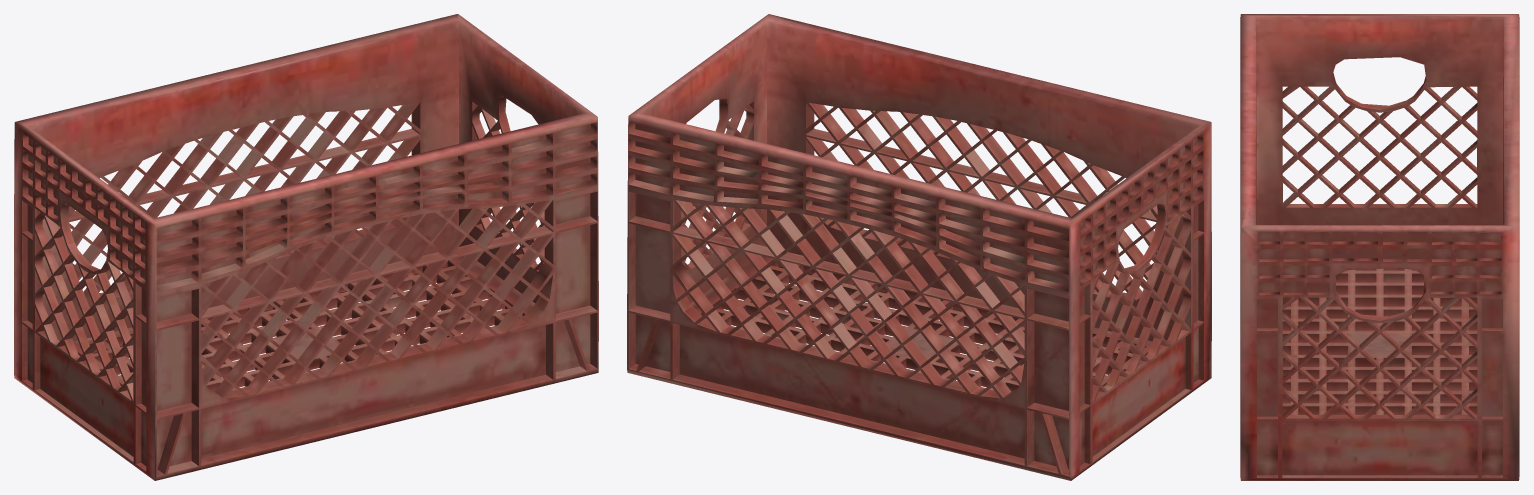
File: prop-plasticcrate.glb
The picture shows the model from 3 angles, left to right: view 1: azimuth 30°, elevation 25°; view 2: azimuth 150°, elevation 25°; view 3: azimuth 270°, elevation 25°; orthographic projection.
Parts seen in each view (by area): view 1: prop-plasticcrate; view 2: prop-plasticcrate; view 3: prop-plasticcrate.
Part boxes in pixels (<box>): prop-plasticcrate: <box>14,14,598,480</box>; prop-plasticcrate: <box>627,14,1211,480</box>; prop-plasticcrate: <box>1240,14,1519,480</box>.
Size of the model in its own units: 0.4811 by 0.2652 by 0.265.
1 material, 1 textured.
